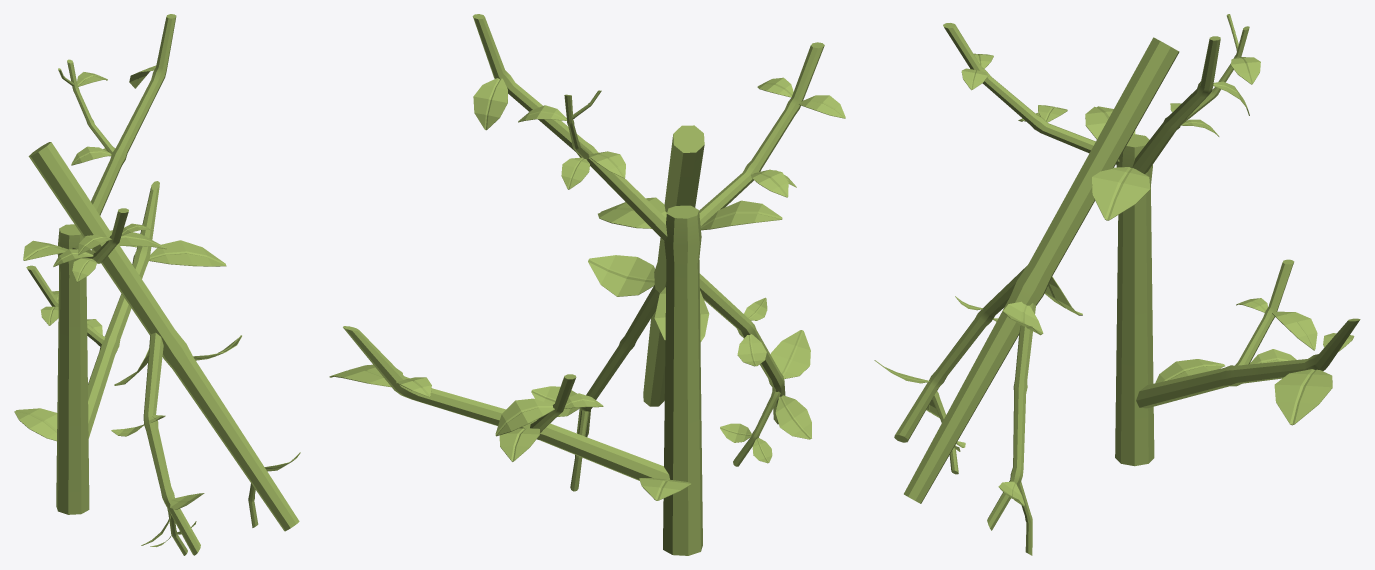
File: dead_wildparsnip_1.fbx
The picture shows the model from 3 angles, left to right: view 1: azimuth 30°, elevation 25°; view 2: azimuth 150°, elevation 25°; view 3: azimuth 270°, elevation 25°; orthographic projection. The views are drawn at different scales.
Parts seen in each view (by area): view 1: branch_3point; view 2: branch_3point; view 3: branch_3point.
Boxes of the visible parts, x1=… form: branch_3point: x1=14, y1=14, x2=300, y2=555; branch_3point: x1=329, y1=14, x2=845, y2=555; branch_3point: x1=874, y1=14, x2=1360, y2=555.
Size of the model in its own units: 2.95 by 4.42 by 3.77.
